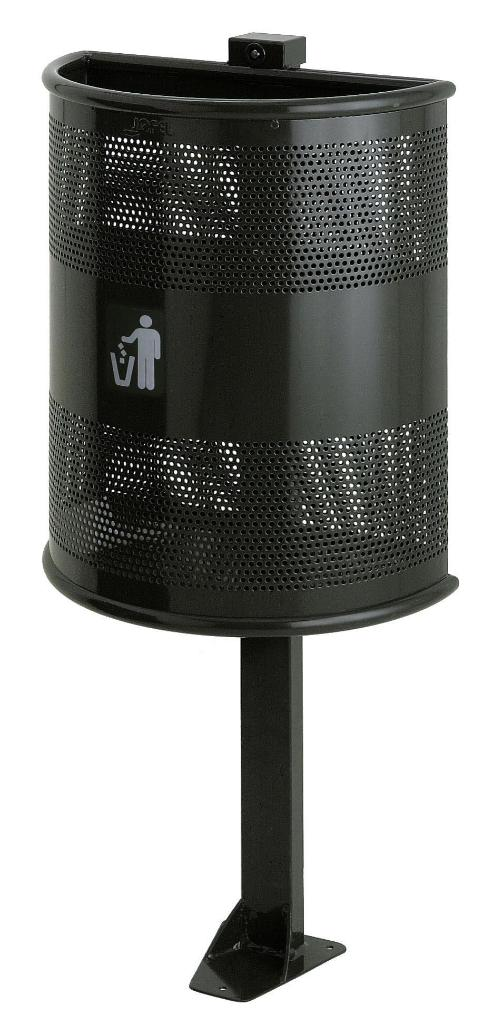dustbin: (11, 0, 497, 1009)
